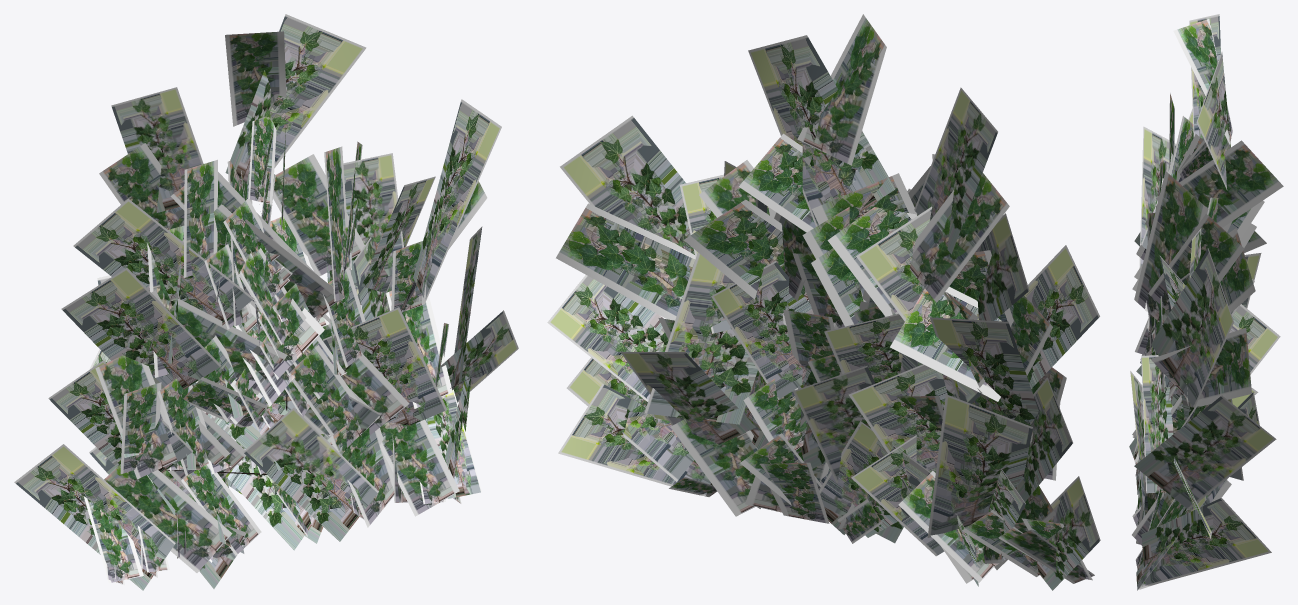
The model's file is Ivy5.fbx.
3 renders of one model, left to right at view 1: azimuth 30°, elevation 25°; view 2: azimuth 150°, elevation 25°; view 3: azimuth 270°, elevation 25°, orthographic. The views are drawn at different scales.
Visible parts, largest first — view 1: Ivy5; view 2: Ivy5; view 3: Ivy5.
Part boxes in pixels (<box>): Ivy5: <box>14,14,518,590</box>; Ivy5: <box>547,14,1100,590</box>; Ivy5: <box>1129,14,1283,590</box>.
Size of the model in its own units: 495 by 495 by 137.
